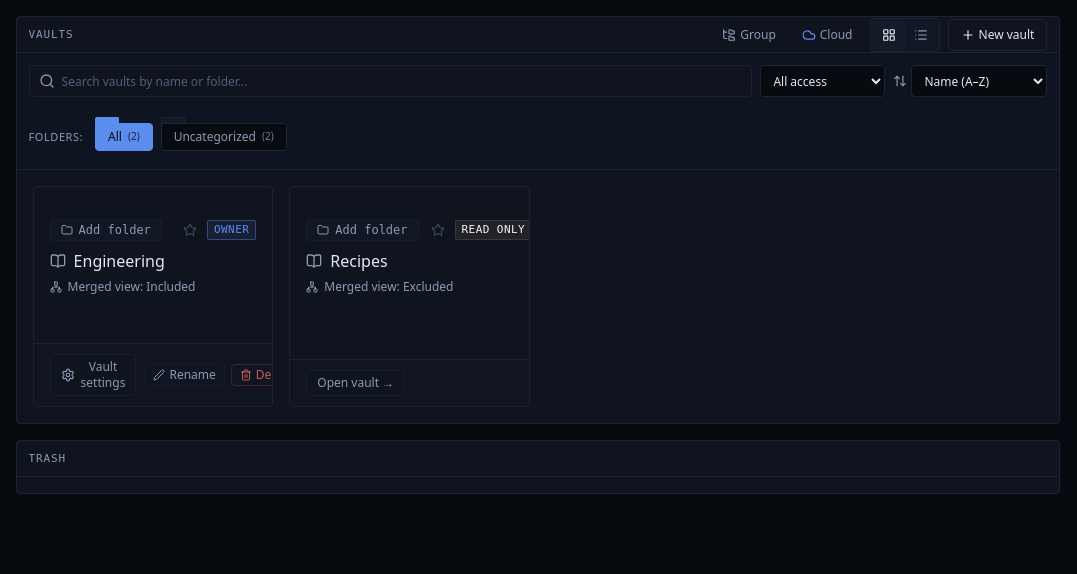
Test: VaultsPage › allows toggling group by folder view
Expected: the link "Engineering" is shown, [50,250,165,272]
Note: Click Group by folder
Click the button with aria-label "Group by folder".
click(749, 34)  # box [713,20,785,48]
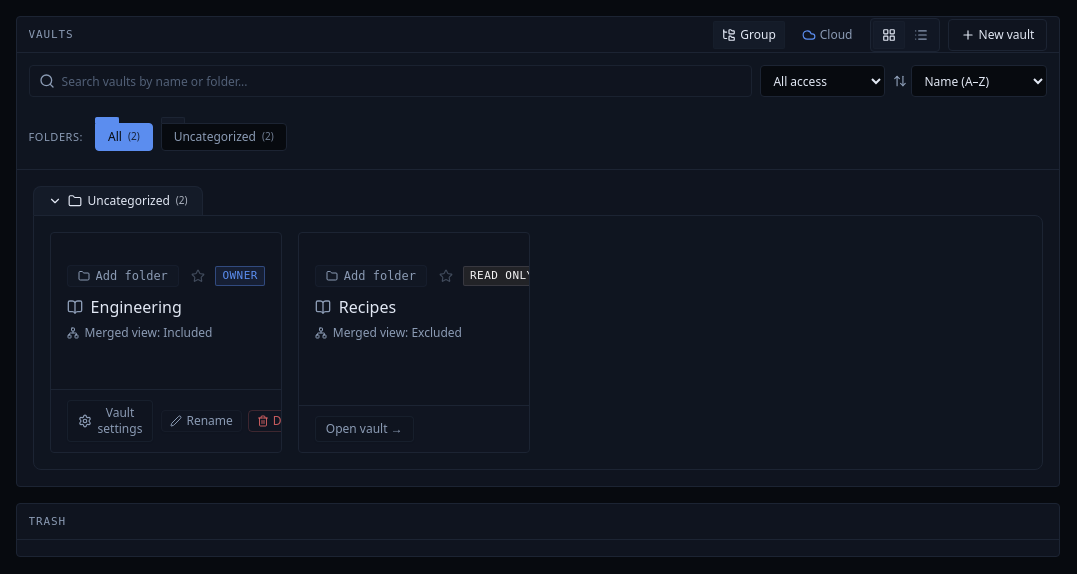
Note: Click again to ungroup
Click the button with aria-label "Group by folder".
click(749, 34)  # box [713,20,785,48]
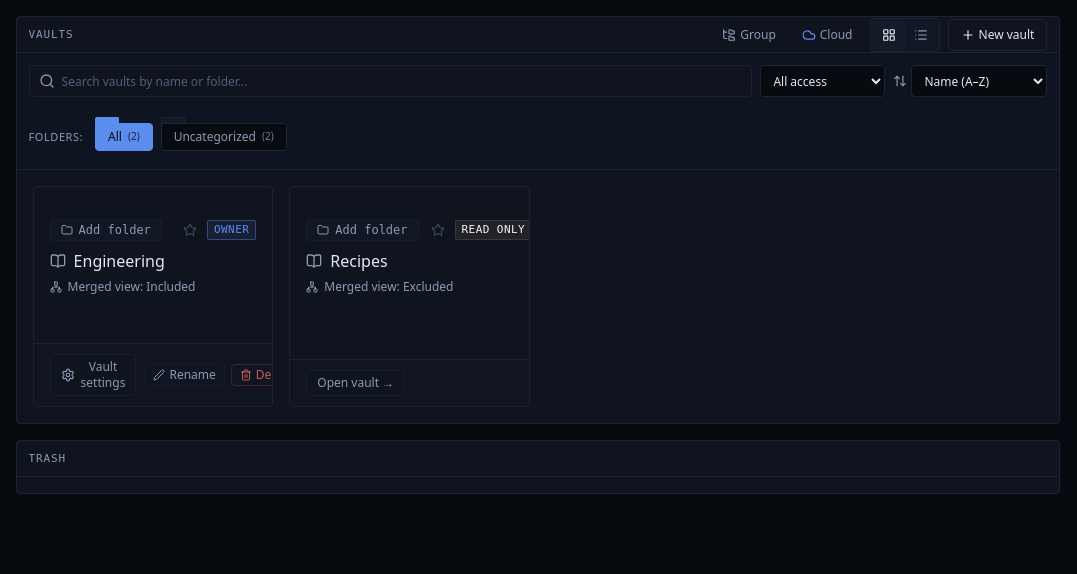
Result: the text "Uncategorized" is shown once at [174,129,256,145]
